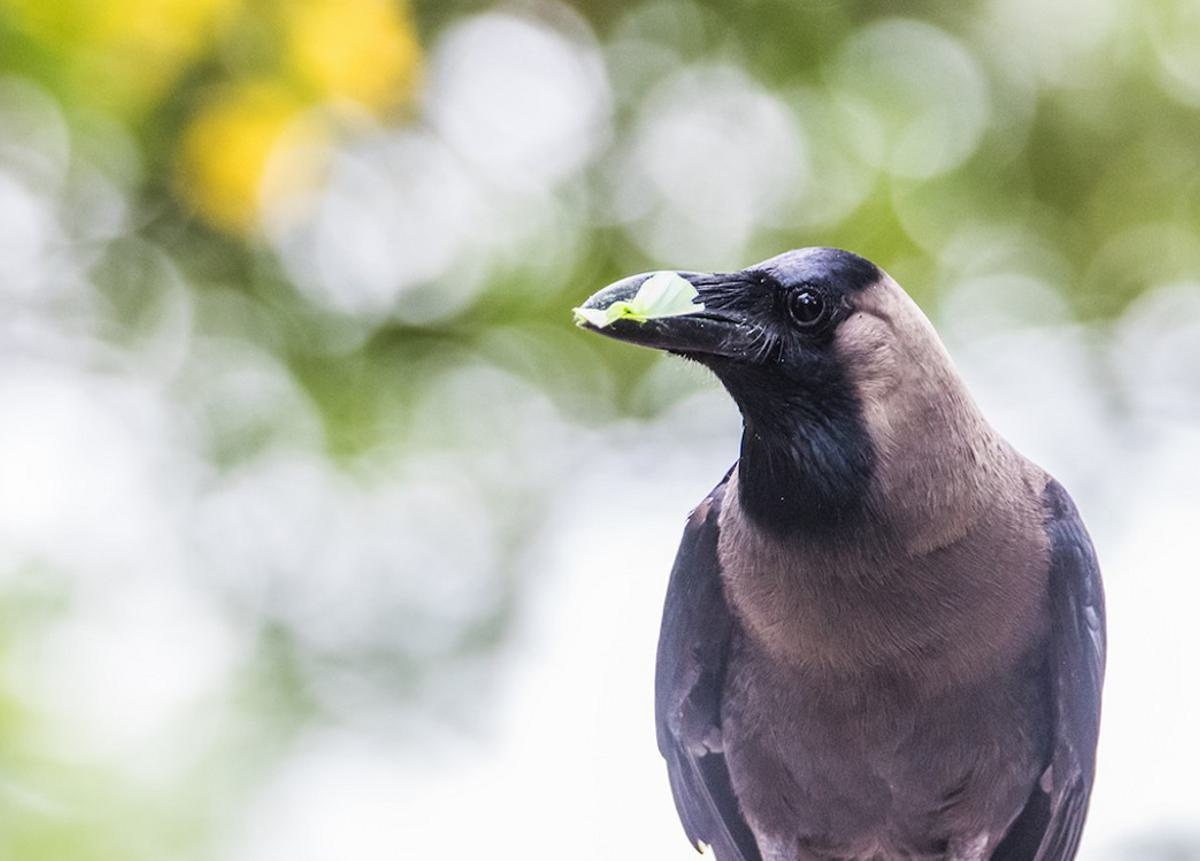crow: (567, 240, 1141, 861)
